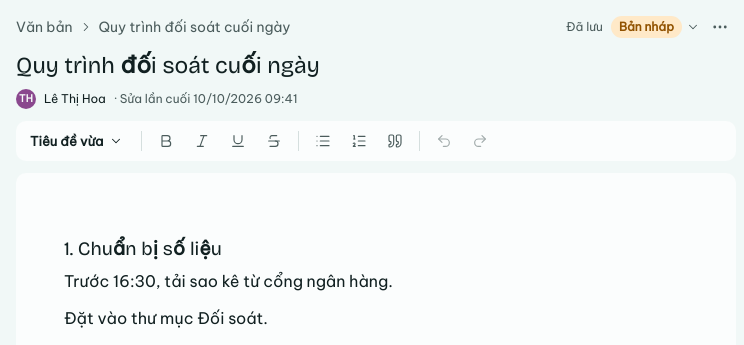
Test: DocumentScreen: saving › changes the status from the menu, saved at once
Expected: the field with class "doc-prose" is shown, [64,237,393,328]
Step 1. Click the button with aria-label "Trạng thái: Bản nháp" → (655, 27), box [611,16,700,38]
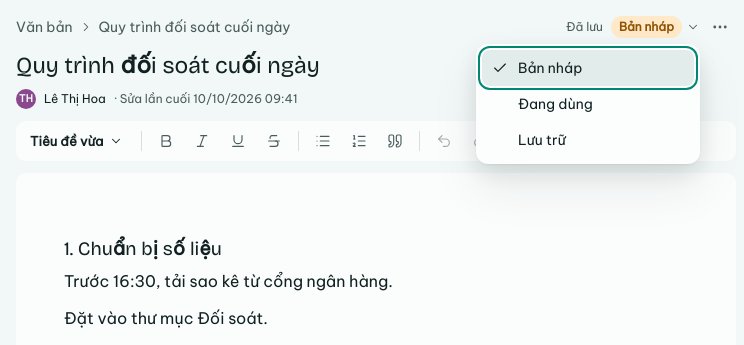
Step 2. Click the menu item "Đang dùng" → (588, 104), box [482,86,694,122]
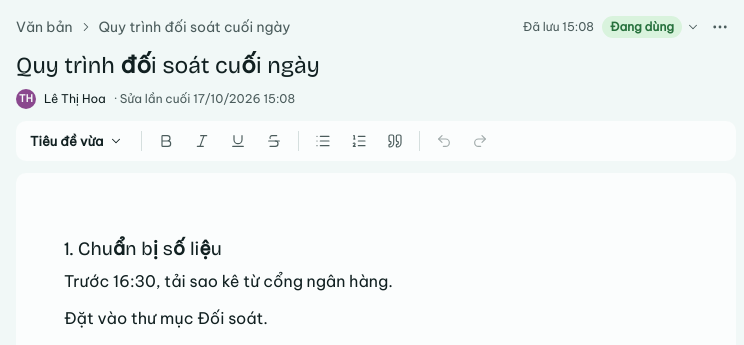
Now the button with aria-label "Trạng thái: Đang dùng" is shown, box [602,16,700,38]
